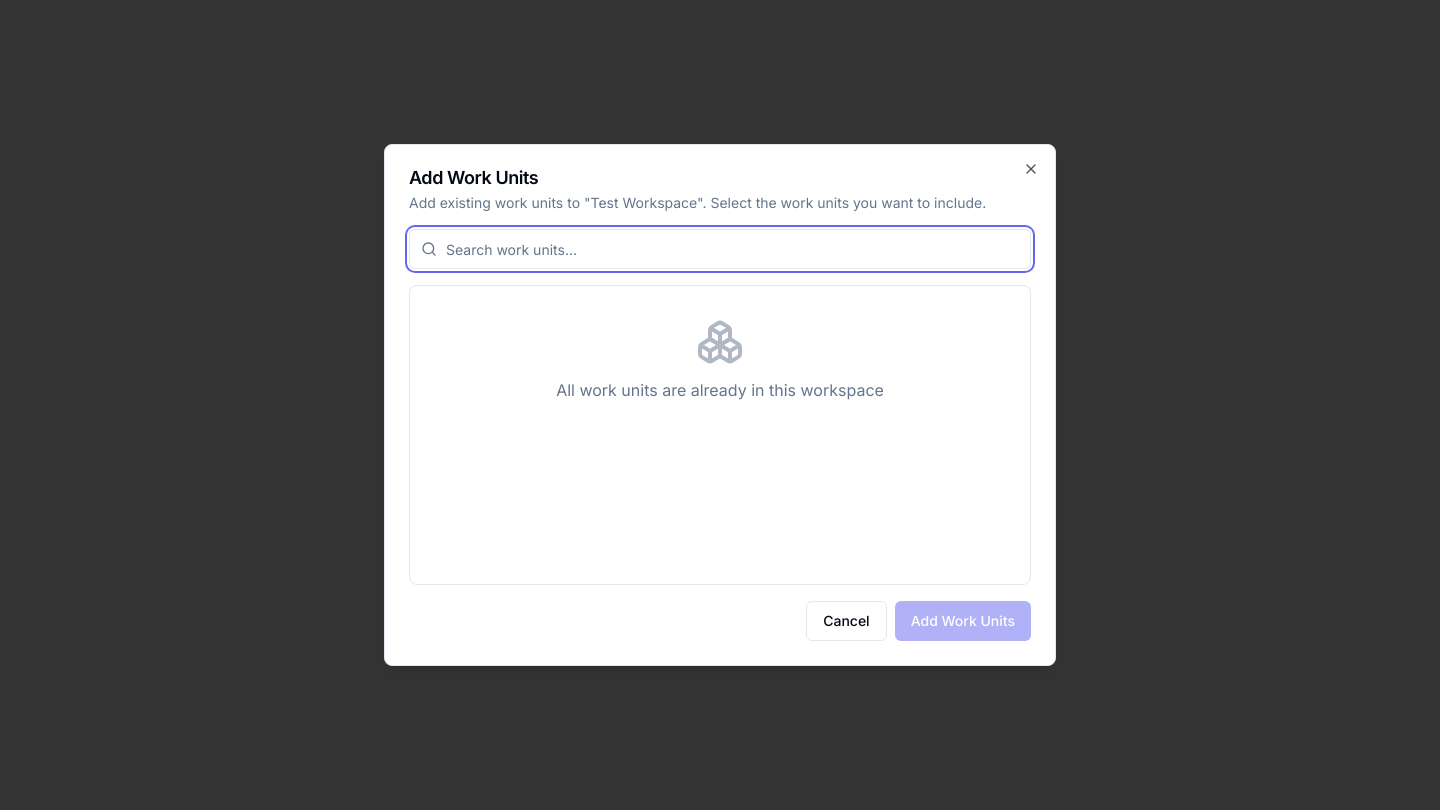
Test case: AddWorkUnitDialog › empty states › should show different message when search returns no results
The width and height of the screenshot is (1440, 810).
Note: Type in search
Type "nonexistent" into the field with placeholder "Search work units..." at {"x": 720, "y": 249}, box [409, 229, 1031, 269]
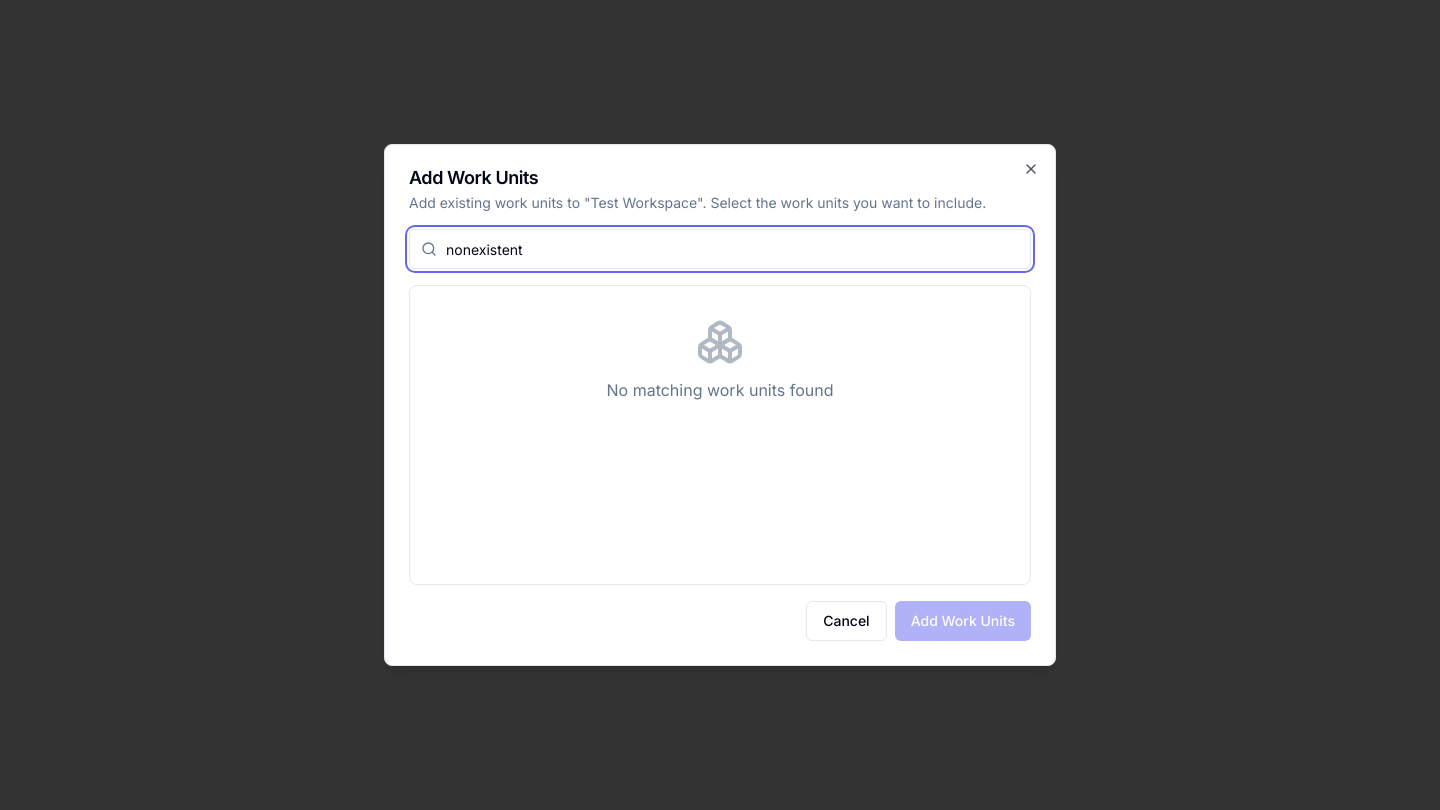
Now the text "No matching work units found" is shown, box [606, 378, 834, 402]
